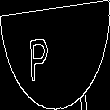P_N: (44, 28, 66, 82)
